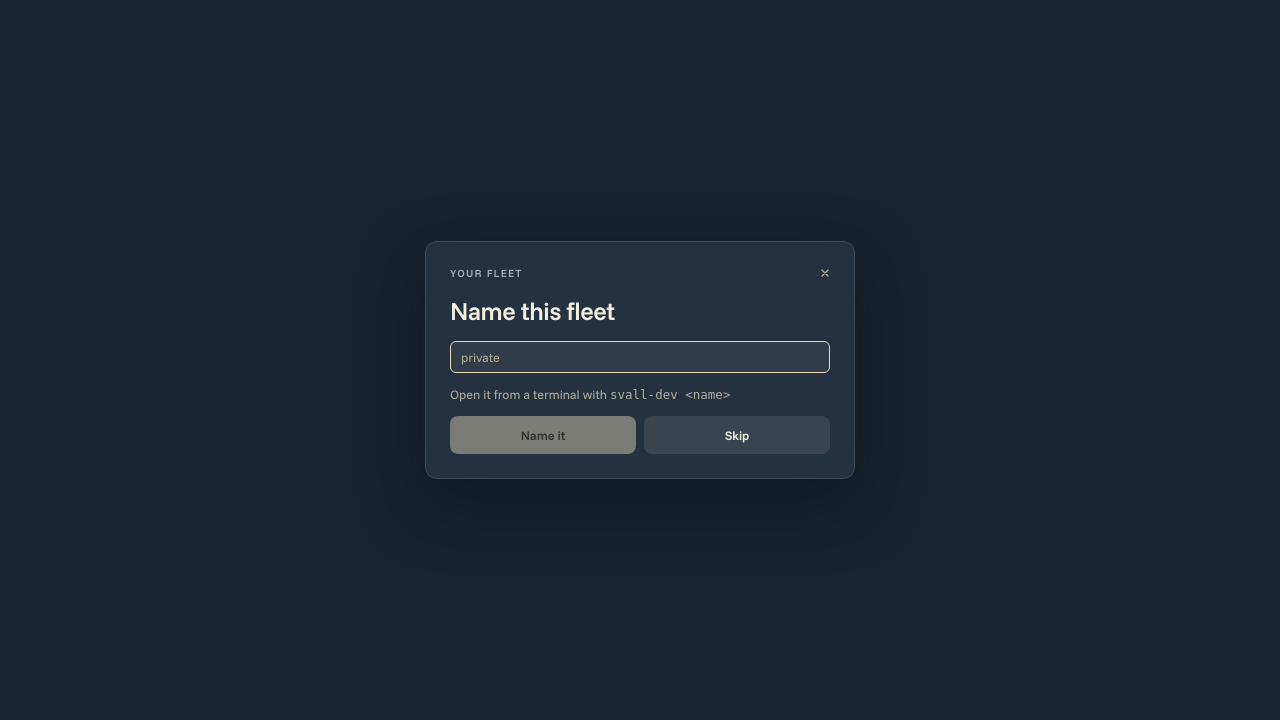
Scenario: a fresh private fleet is named first, with the command that opens it, then asked about the scribe
The width and height of the screenshot is (1280, 720).
Type "home" into the field with test id "fleet-name-input" at (640, 357), box [450,341,830,373]
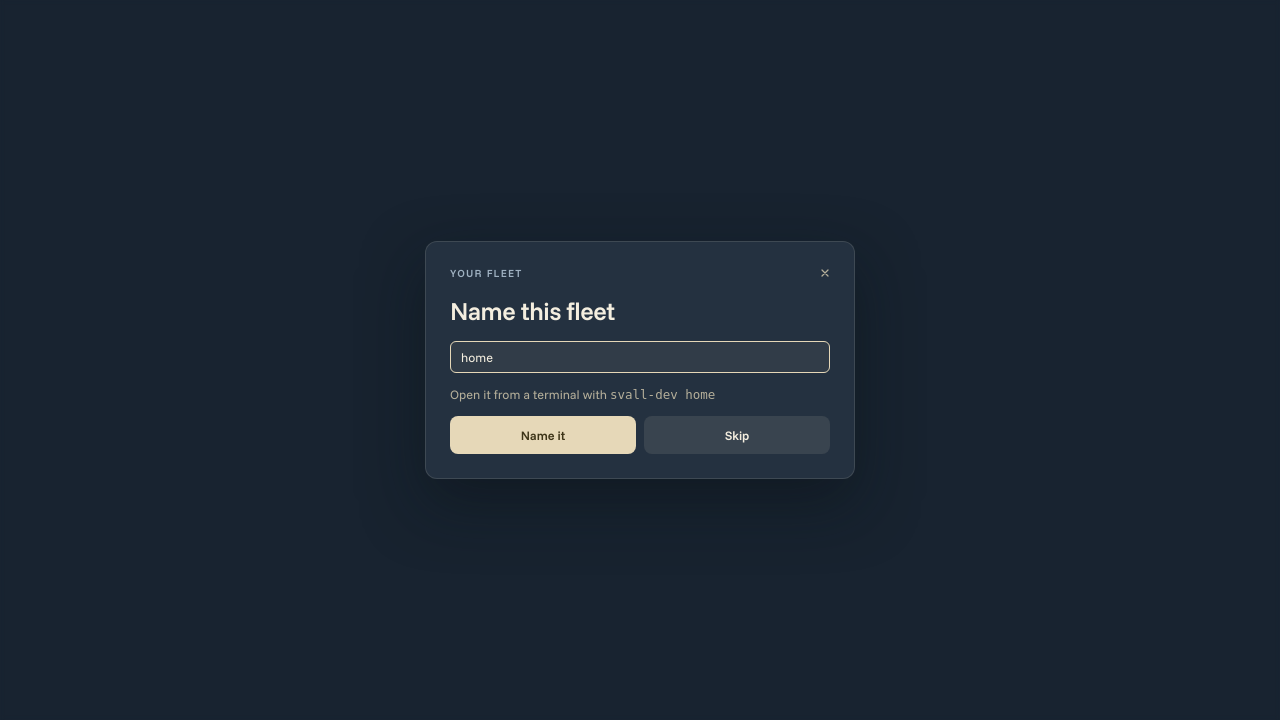
Expected: the element with test id "fleet-name-ask" shows "svall-dev home"
Click the button with test id "fleet-name-save" at (543, 435), box [450,416,636,454]
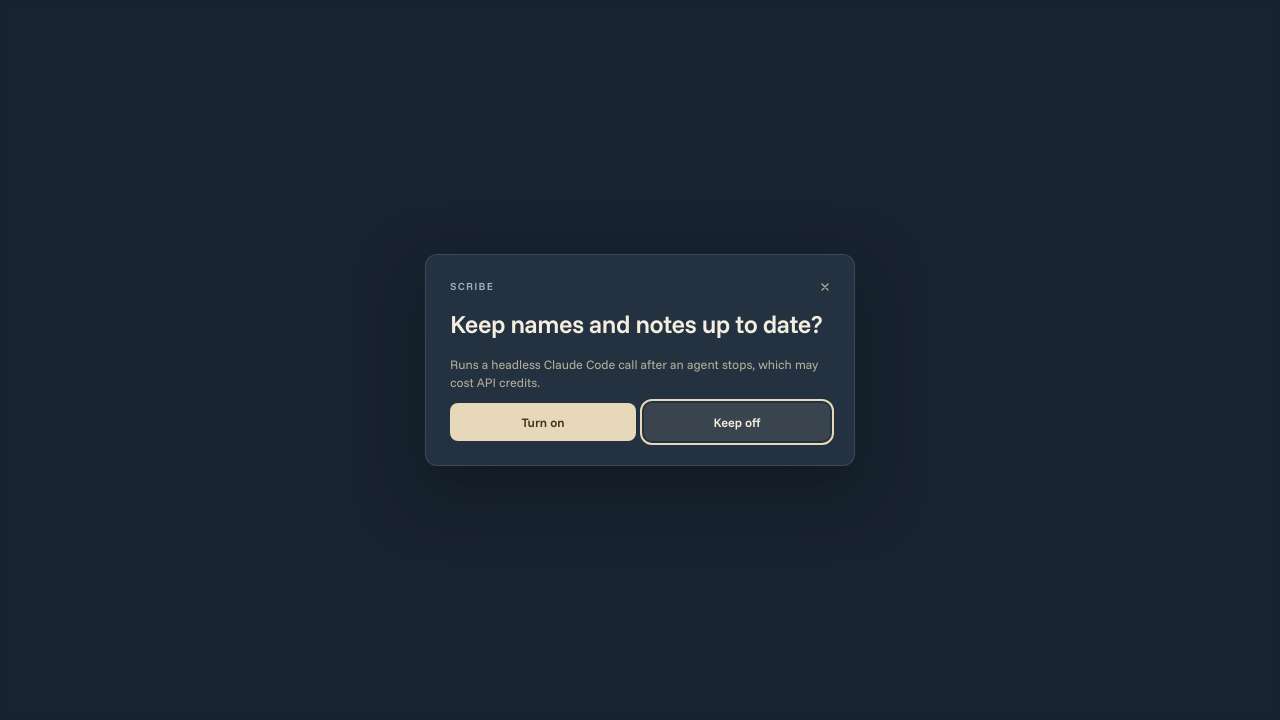
Expected: the element with test id "scribe-ask" is shown
